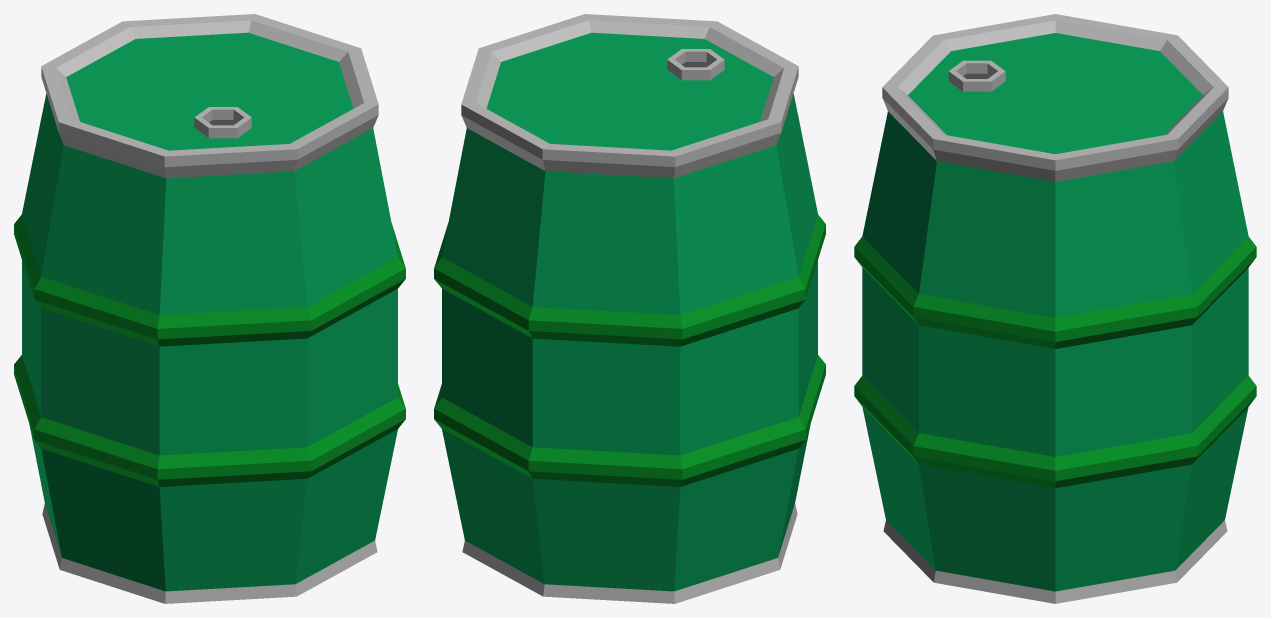
Rendered from Barrel Plastic Green.fbx.
3 views of the same model, side by side, from view 1: azimuth 30°, elevation 25°; view 2: azimuth 150°, elevation 25°; view 3: azimuth 270°, elevation 25° (orthographic).
Parts seen in each view (by area): view 1: Barrel Plastic Green; view 2: Barrel Plastic Green; view 3: Barrel Plastic Green.
Boxes of the visible parts, x1=… form: Barrel Plastic Green: x1=14, y1=14, x2=405, y2=603; Barrel Plastic Green: x1=434, y1=14, x2=825, y2=603; Barrel Plastic Green: x1=854, y1=14, x2=1256, y2=603.
Bounding box in the file's own units: 94.52 × 116 × 94.52.
